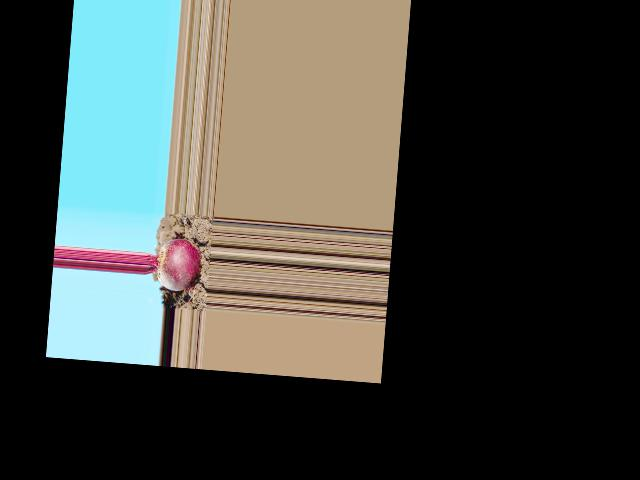beet: (144, 236, 202, 293)
